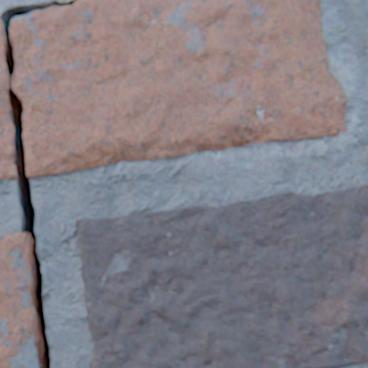brick: (76, 186, 367, 367), (0, 233, 35, 367)
broken_brick: (10, 0, 345, 178), (0, 22, 17, 180)
crack: (0, 0, 82, 367)
